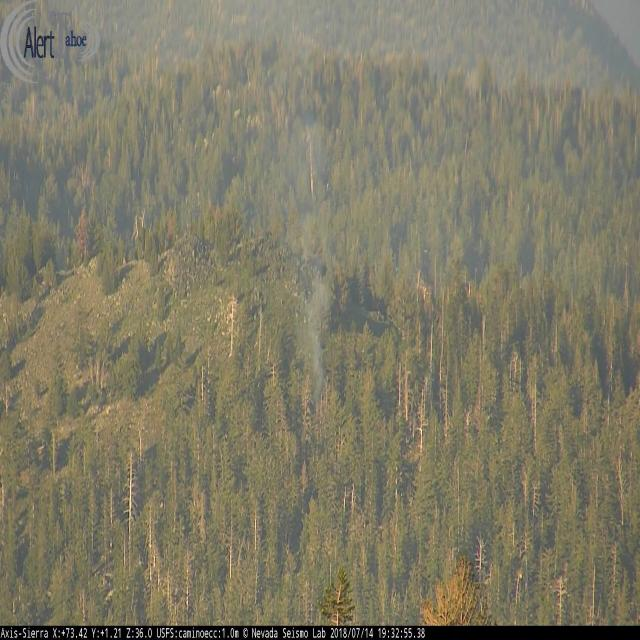smoke: (252, 5, 338, 404)
